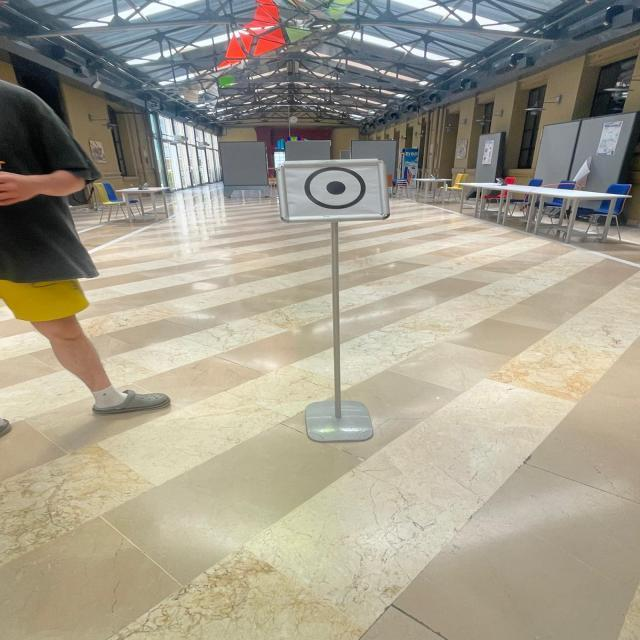Target: (266, 143, 398, 233)
inner: (315, 175, 353, 203)
